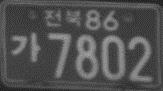0: (100, 33, 126, 81)
2: (127, 34, 155, 83)
6: (102, 8, 120, 31)
7: (45, 31, 72, 79)
8: (74, 33, 99, 80), (85, 8, 101, 31)
가: (10, 30, 41, 63)
전북_O: (43, 7, 82, 28)
